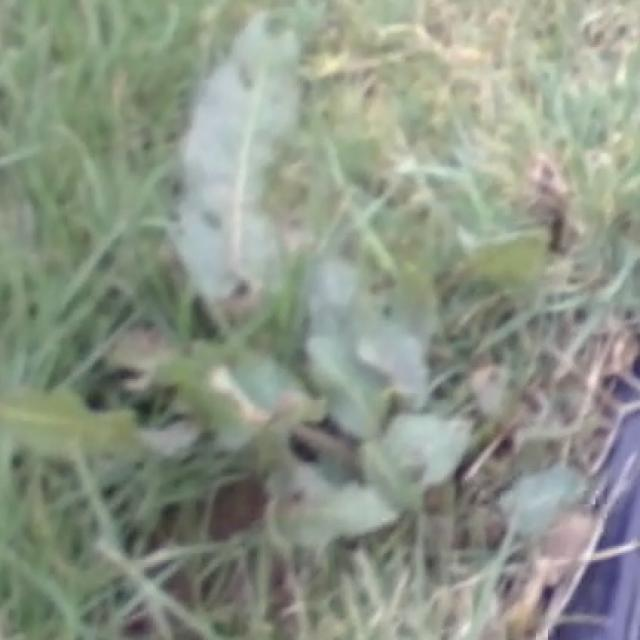organic waste: (97, 76, 621, 556)
